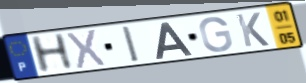A: (155, 20, 195, 60)
G: (197, 15, 235, 53)
H: (27, 31, 76, 75)
I: (120, 24, 142, 64)
K: (234, 11, 272, 49)
X: (65, 27, 108, 70)
